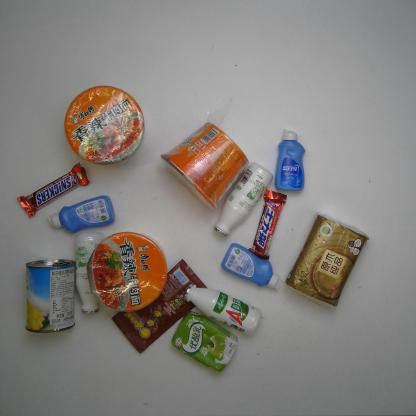Candy: (112, 260, 209, 353)
Canned Food: (23, 259, 78, 333)
Chocolate: (18, 160, 90, 218), (249, 189, 288, 258)
Instant Noodles: (158, 121, 250, 211), (86, 230, 168, 314), (63, 85, 146, 165)
Milk: (211, 161, 274, 237), (170, 310, 240, 376), (182, 283, 262, 335), (73, 232, 100, 314)
Personal Hygiene: (221, 243, 280, 291), (49, 195, 116, 233), (276, 128, 306, 192)
Tissue: (285, 213, 370, 310)
